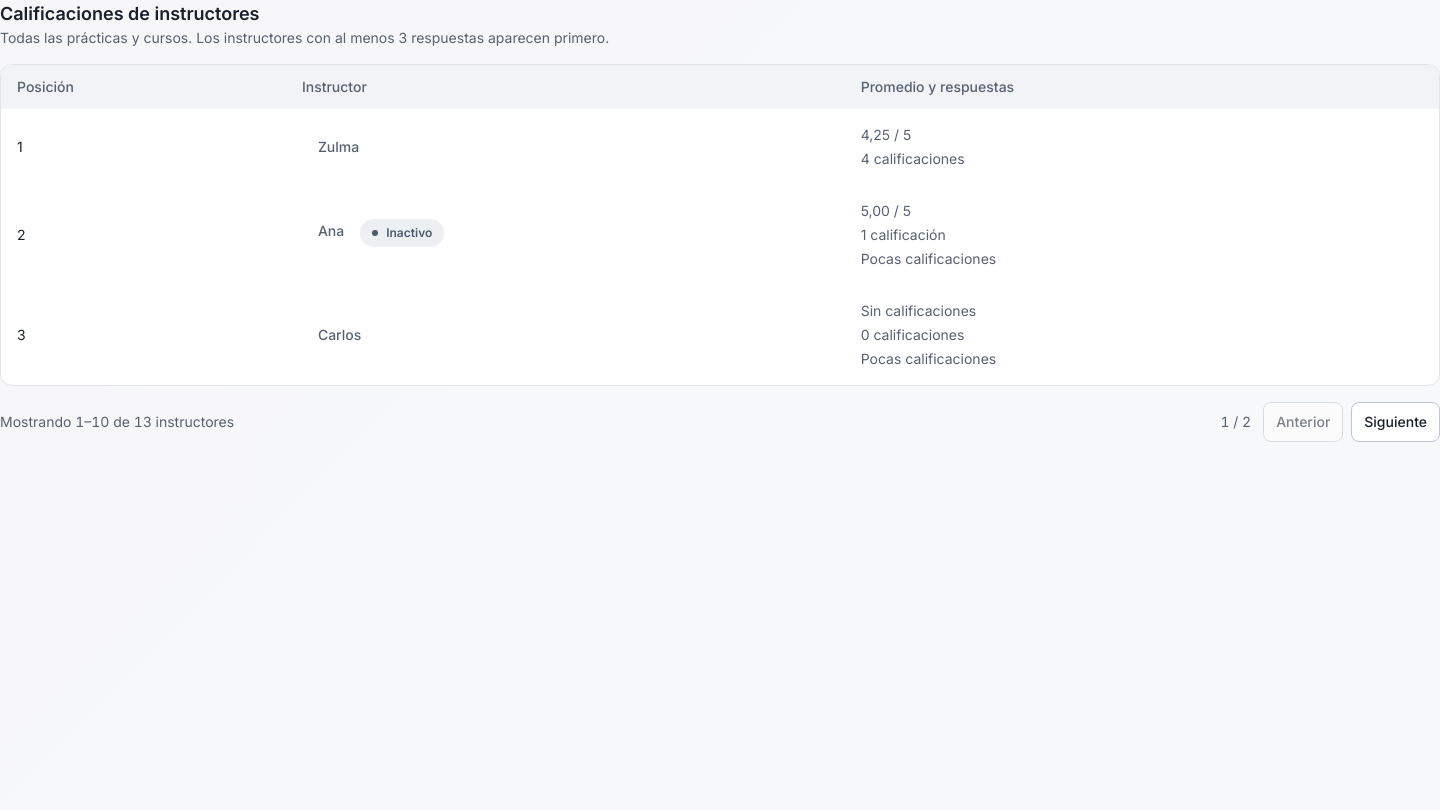
Scenario: Ranking administrativo de calificaciones › pagina comentarios sin recalcular los porcentajes de todas las respuestas
What coordinates should you click on to do the following:
click the button "Zulma"
I would click on:
 (339, 147)
Its box is x1=302 y1=127 x2=375 y2=167.
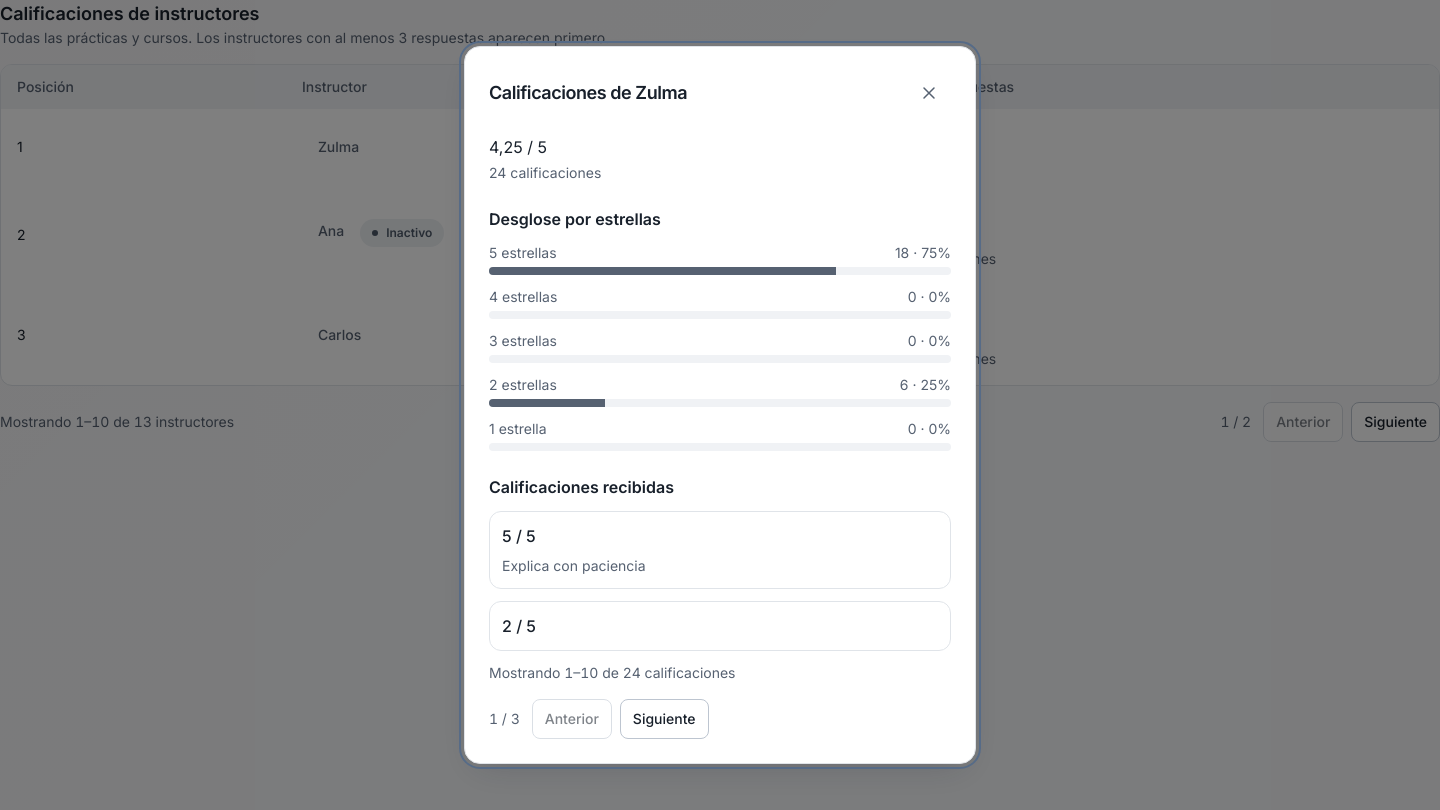
Expected: the text "Explica con paciencia" is shown, x1=502 y1=557 x2=646 y2=574
What coordinates should you click on to do the following:
click the button "Siguiente"
I would click on:
 (664, 719)
Its box is x1=620 y1=699 x2=709 y2=739.
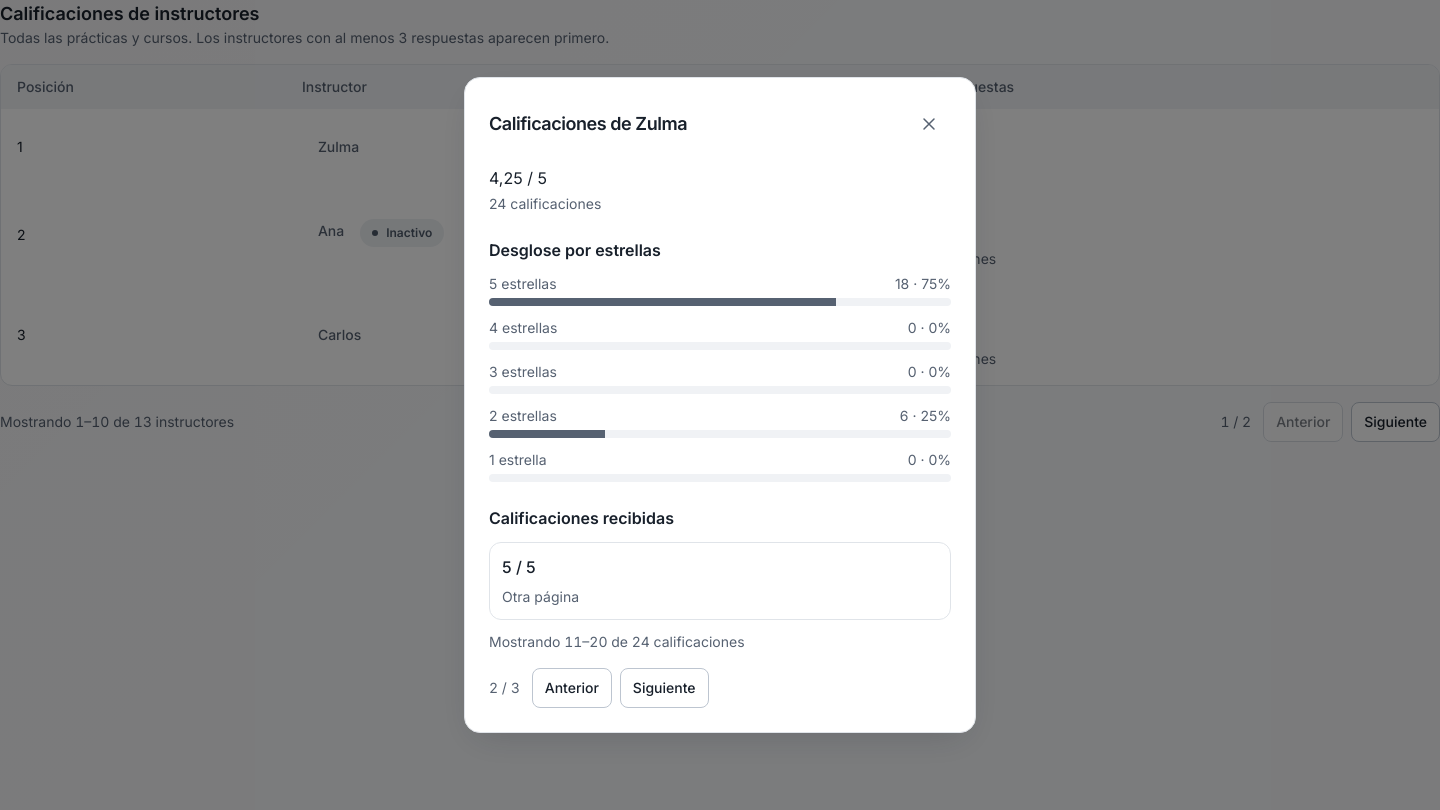
Expected: the text "Otra página" is shown, x1=502 y1=588 x2=579 y2=605
Expected: the text "Explica con paciencia" is gone
